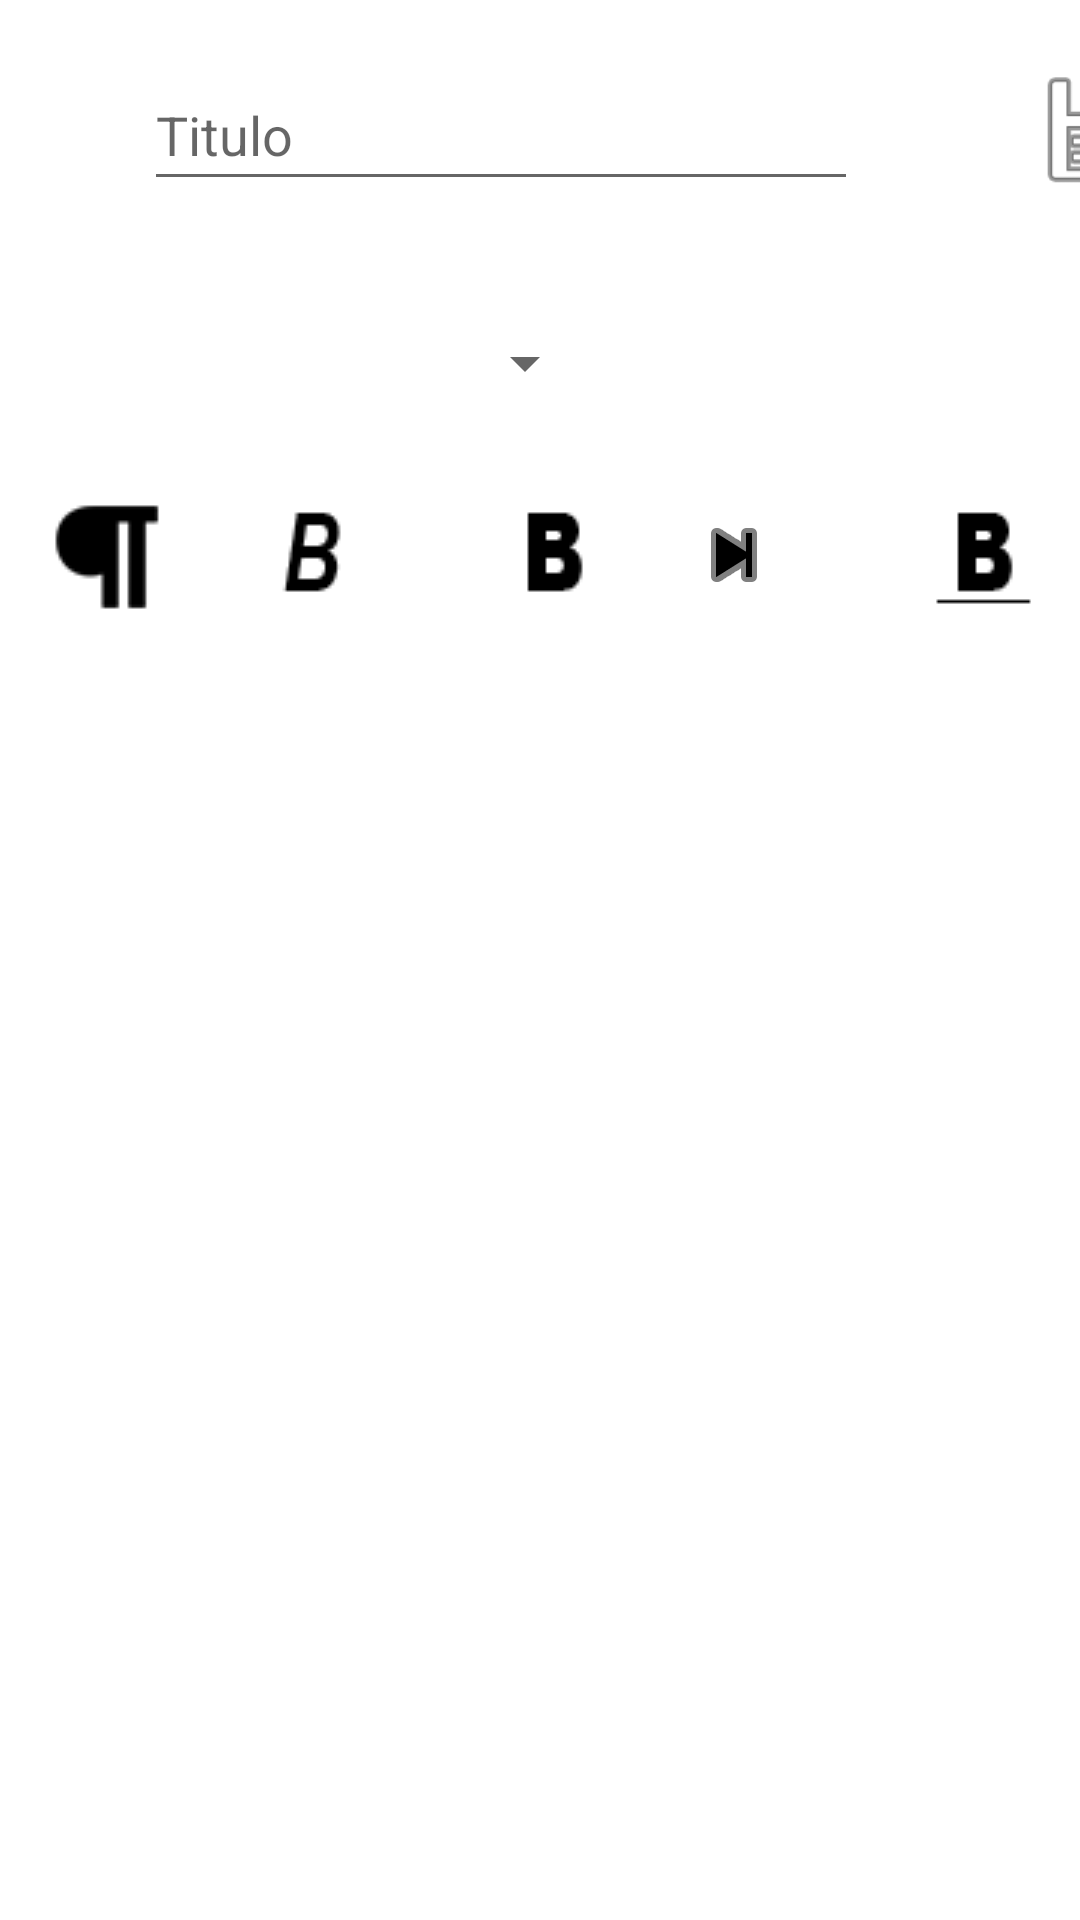

Screen size 1080px×1920px. Icon name, then its center in pixels as point (x, y):
italica: point (312, 552)
next: point (734, 555)
salto linea: point (107, 557)
subrayado: point (983, 558)
